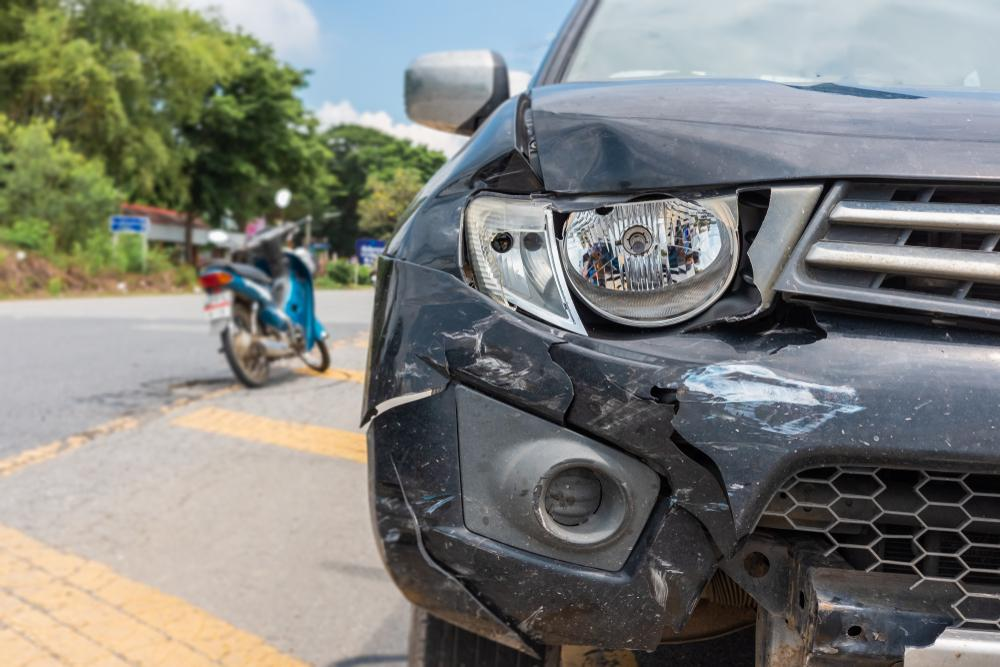crack: (388, 451, 539, 657), (606, 374, 739, 544), (364, 346, 454, 429), (668, 501, 727, 565), (769, 302, 829, 357), (547, 340, 578, 422)
dent: (538, 112, 720, 190)
lamp broken: (463, 185, 822, 340)
scratch: (686, 356, 867, 434), (440, 309, 531, 393), (648, 558, 685, 613)
